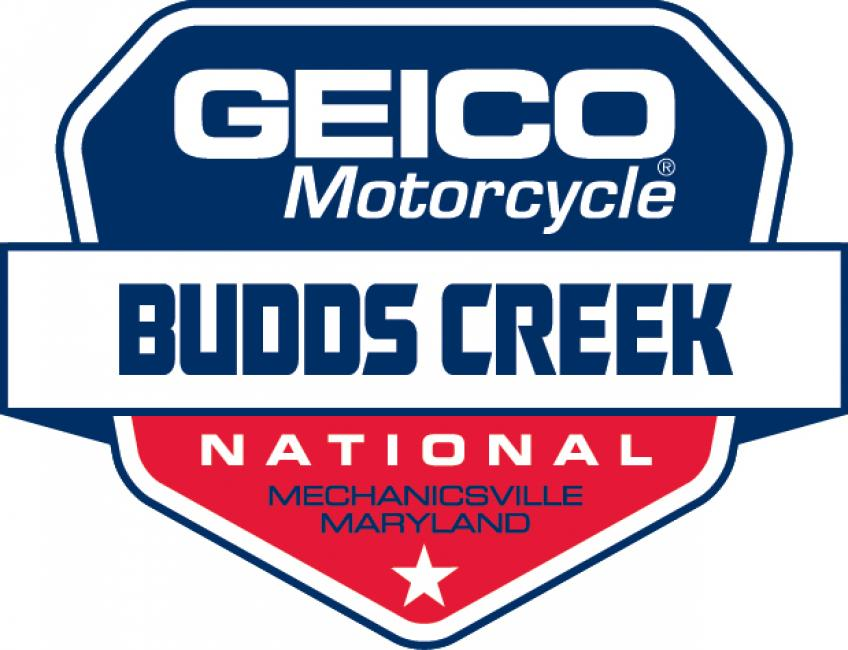geico: (170, 61, 699, 167)
